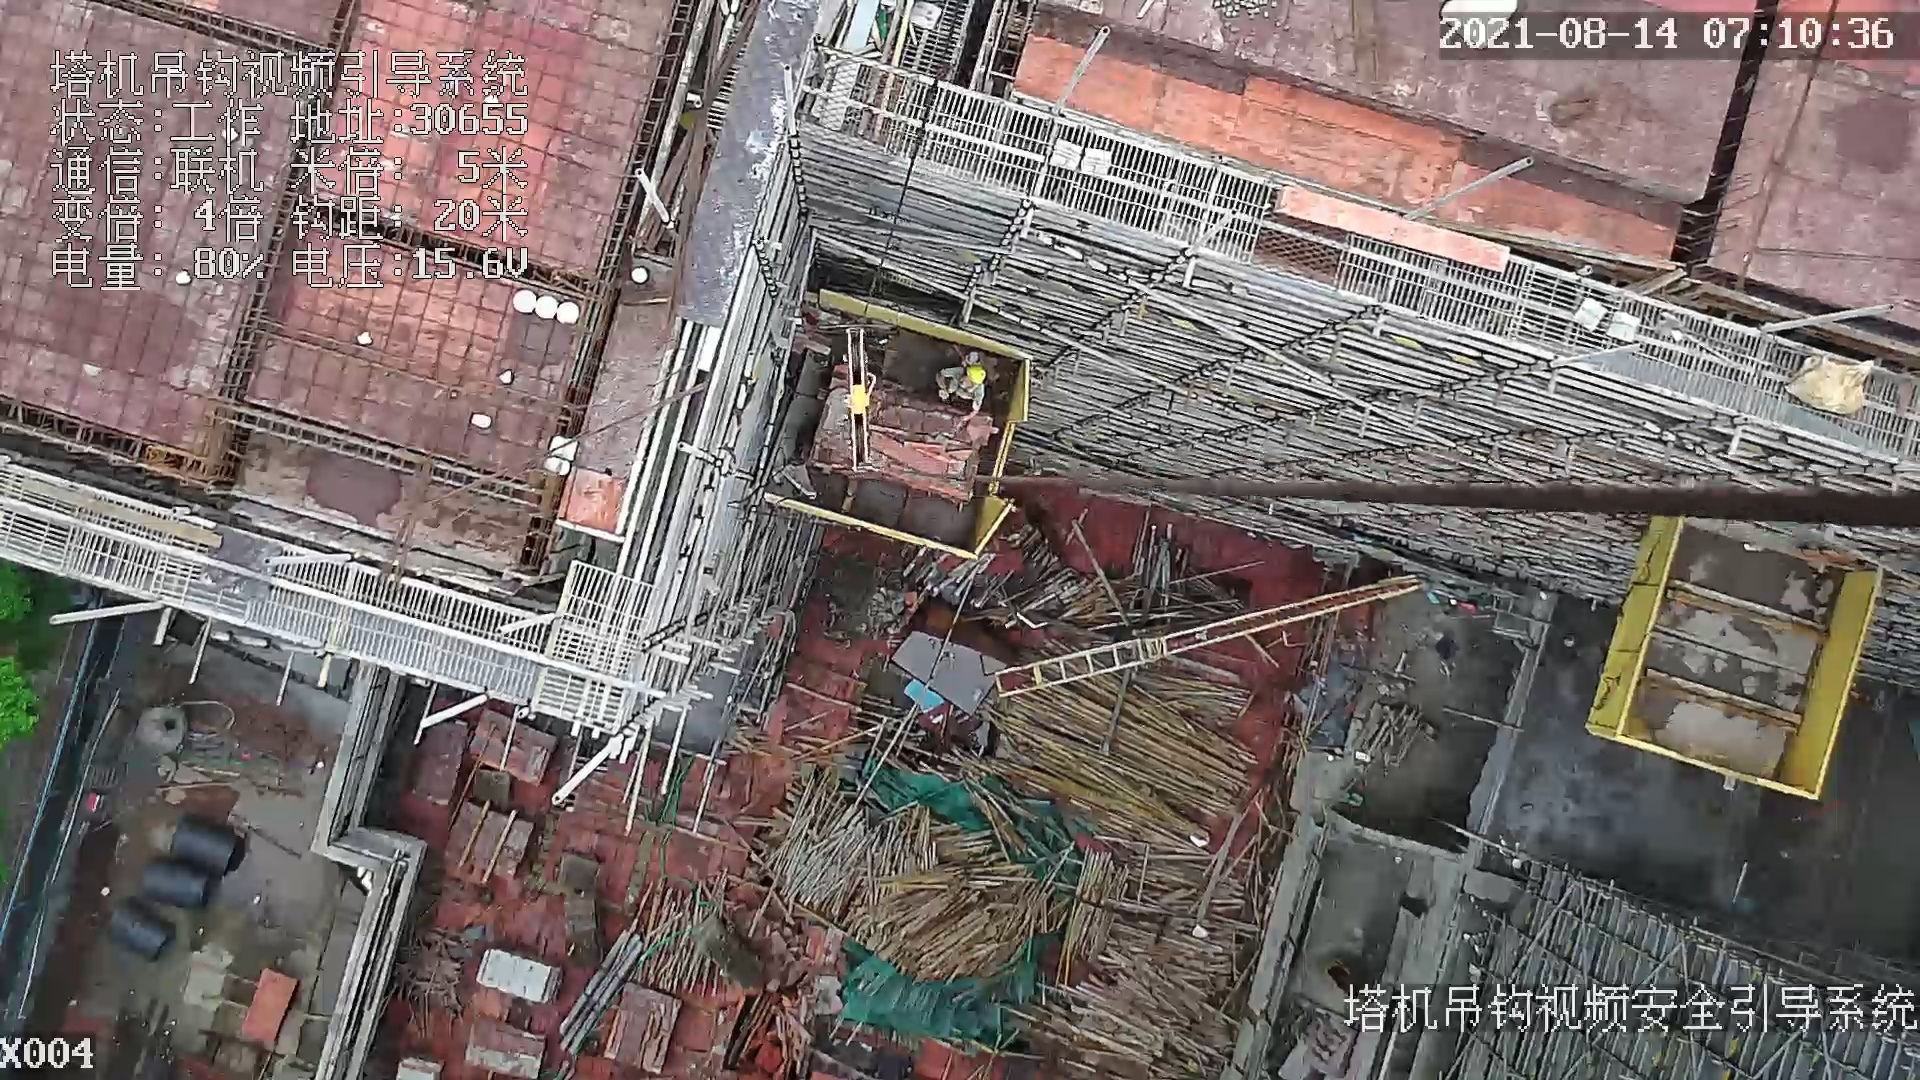helmet: (965, 364, 986, 385)
hook: (840, 317, 881, 482)
person: (942, 363, 987, 424)
